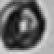correct: (0, 0, 46, 50)
